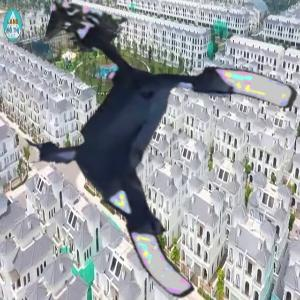drone: (18, 28, 279, 289)
